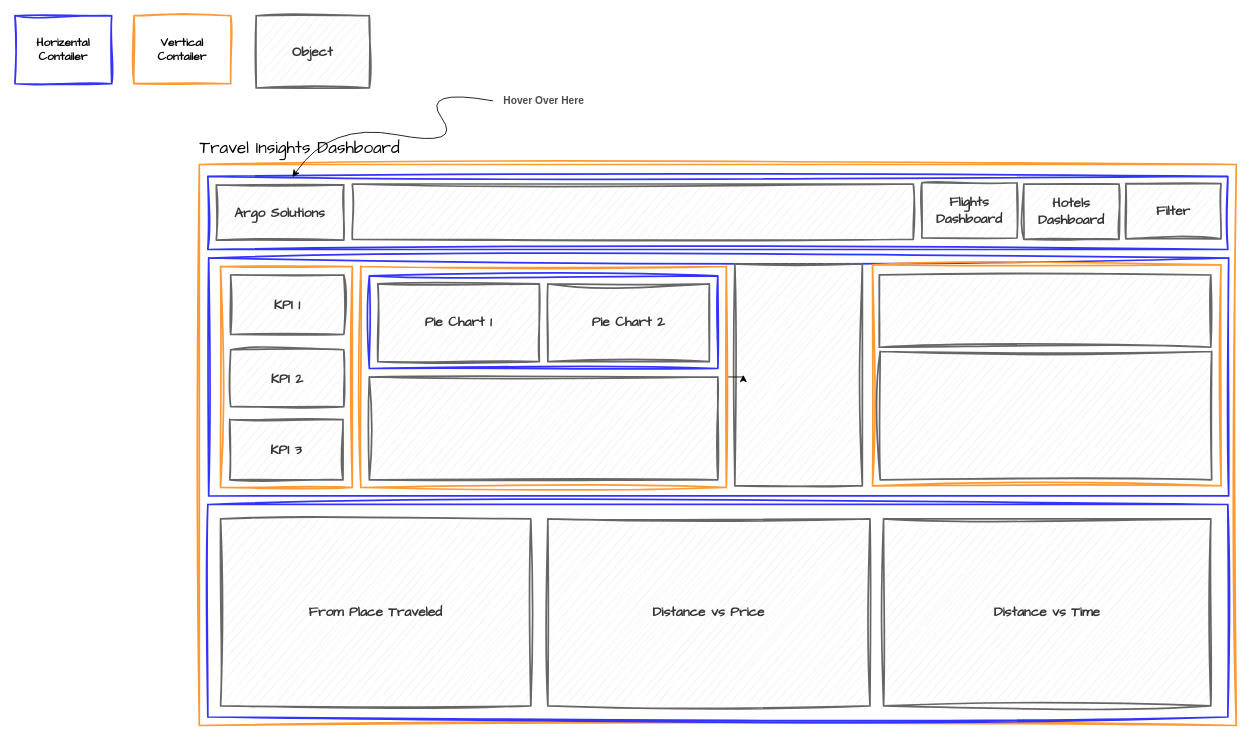
The diagram is 1252 pixels wide and 740 high, and some of its shapes have lost their labels. The centre of each missing label's shape, as x and y in pixels:
Blank: the point at 632,211
Bubble Chart: the point at 1045,415
Gender Comparison: the point at 798,374
Line Chart: the point at 1044,311
Progress Bar Chart: the point at 543,428
